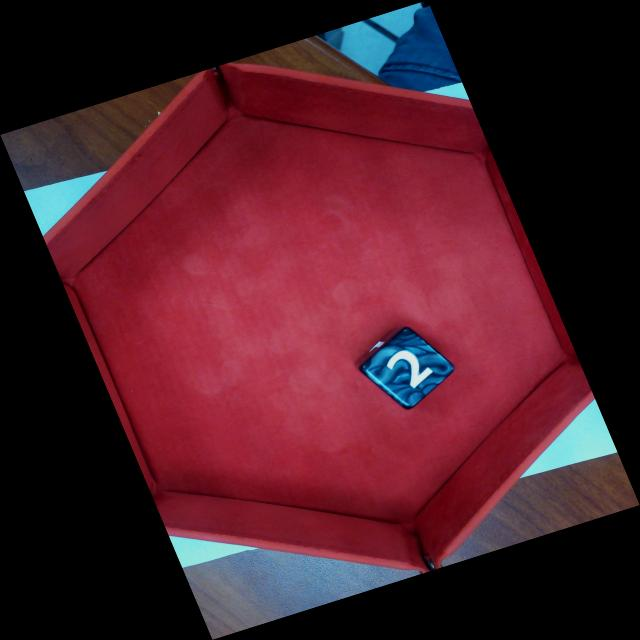dice: (365, 329, 457, 409)
